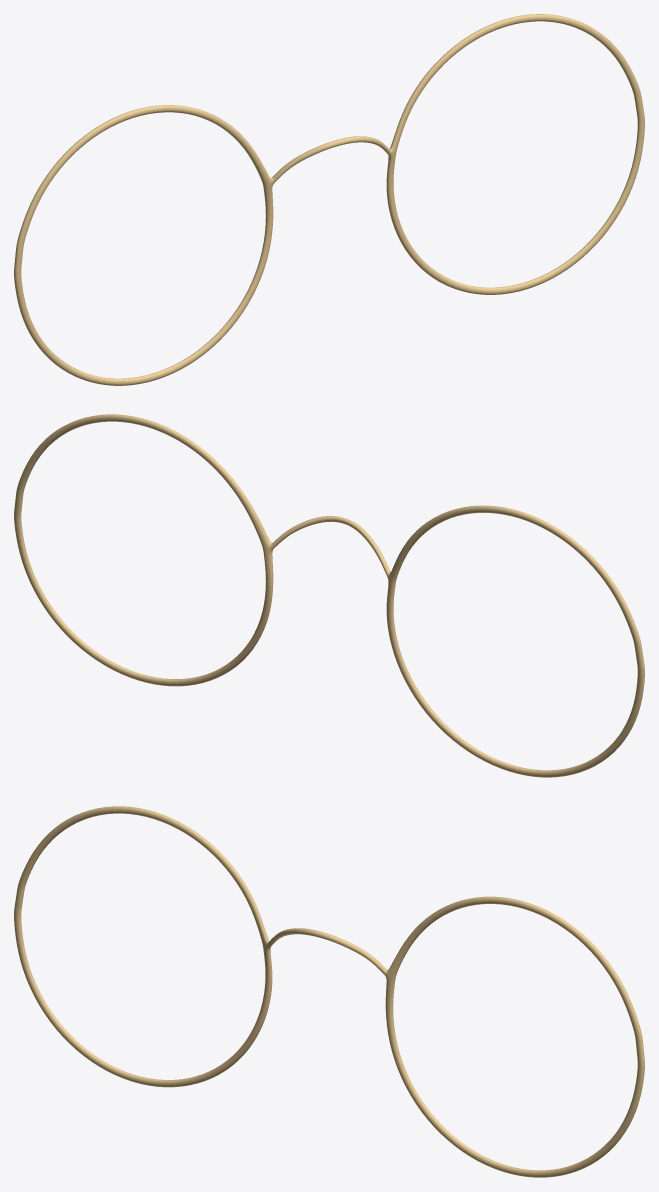
Rendered from glassesFrame.glb.
3 views of the same model, one above another, from view 1: azimuth 30°, elevation 25°; view 2: azimuth 150°, elevation 25°; view 3: azimuth 330°, elevation 25° (orthographic).
Visible parts, largest first — view 1: glasses frame baked; view 2: glasses frame baked; view 3: glasses frame baked.
Part boxes in pixels (bbox=[...]): glasses frame baked: bbox=[14, 14, 644, 385]; glasses frame baked: bbox=[14, 414, 644, 777]; glasses frame baked: bbox=[14, 806, 644, 1177].
Bounding box in the file's own units: 0.1259 × 0.0514 × 0.00629.
